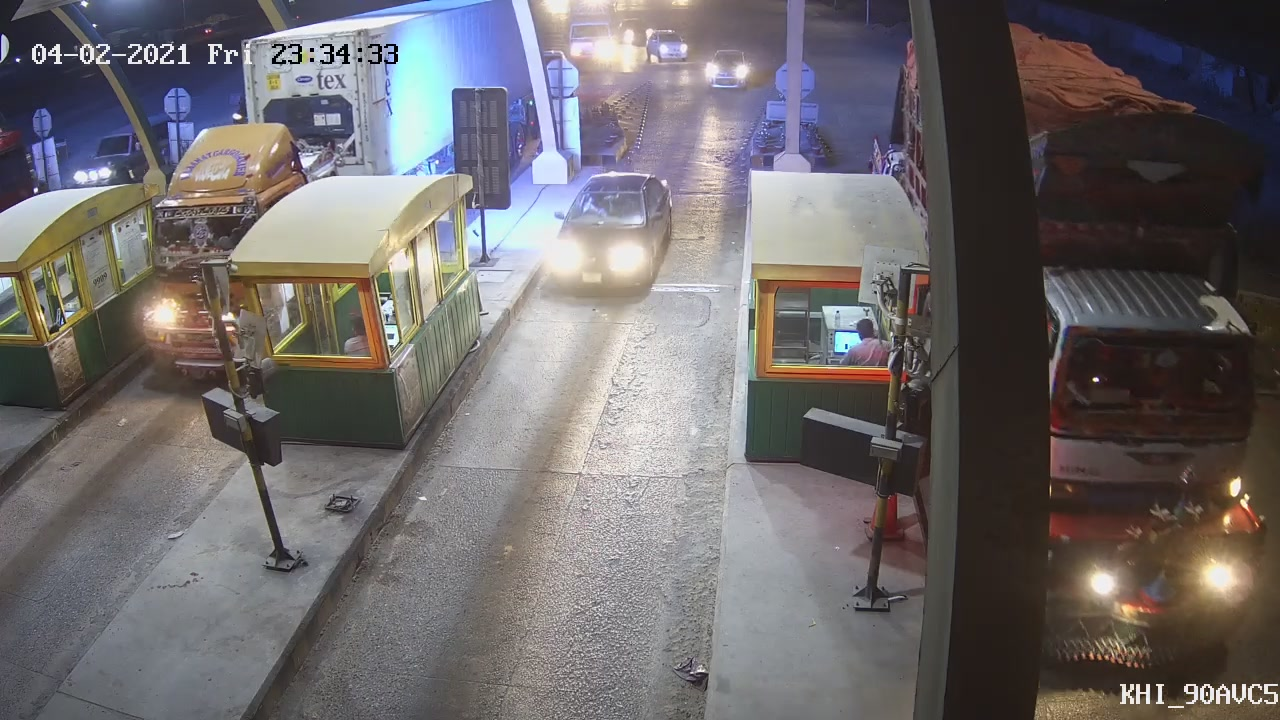F1: (540, 161, 677, 293)
